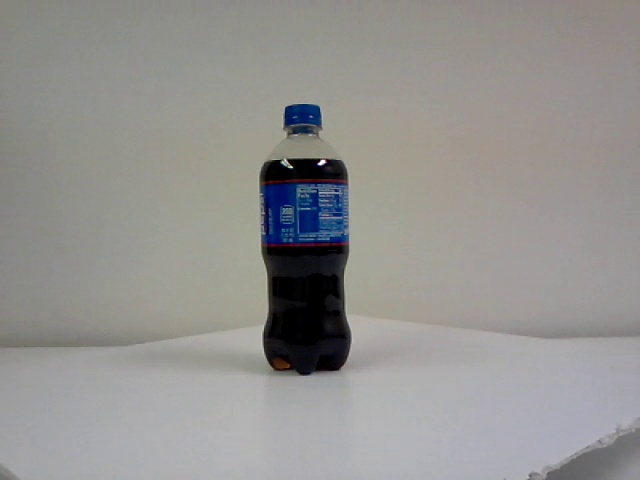botolplastik: (260, 105, 351, 374)
